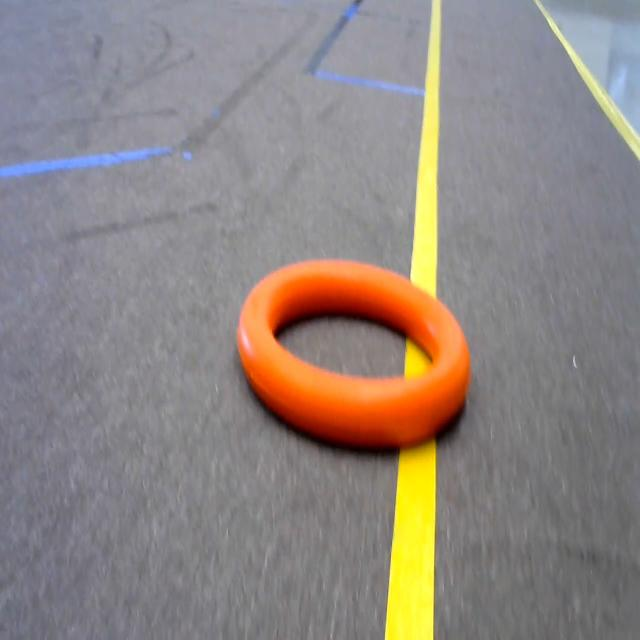note: (232, 225, 488, 462)
